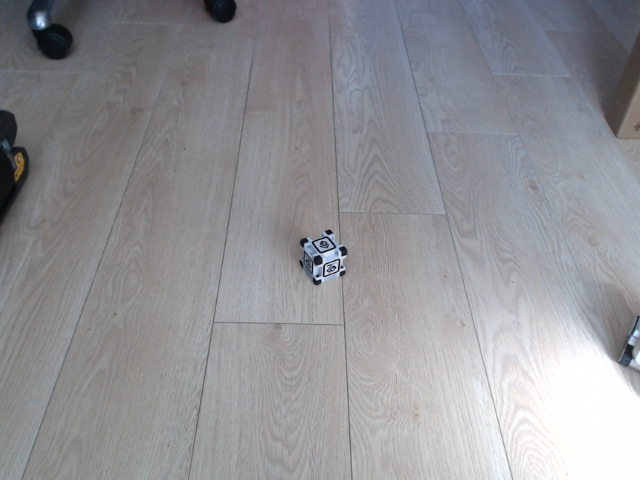block: (296, 228, 351, 286)
